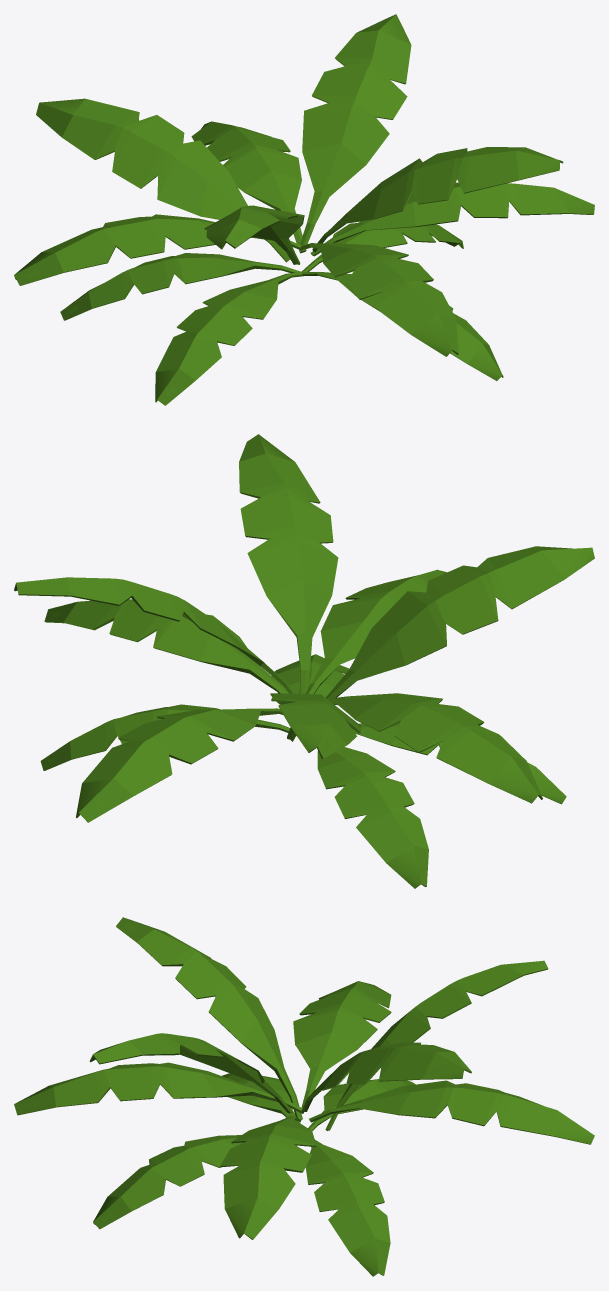
File: tree_06.obj
The picture shows the model from 3 angles, top to bottom: view 1: azimuth 30°, elevation 25°; view 2: azimuth 150°, elevation 25°; view 3: azimuth 270°, elevation 25°; orthographic projection. The views are drawn at different scales.
Parts seen in each view (by area): view 1: tree_06:samor_4024_192tree_06group1; view 2: tree_06:samor_4024_192tree_06group1; view 3: tree_06:samor_4024_192tree_06group1.
Boxes of the visible parts, x1,y1,x2,y2 form: tree_06:samor_4024_192tree_06group1: (14, 14, 594, 405); tree_06:samor_4024_192tree_06group1: (14, 434, 594, 888); tree_06:samor_4024_192tree_06group1: (14, 917, 594, 1276).
Size of the model in its own units: 3.44 by 1.34 by 3.48.
